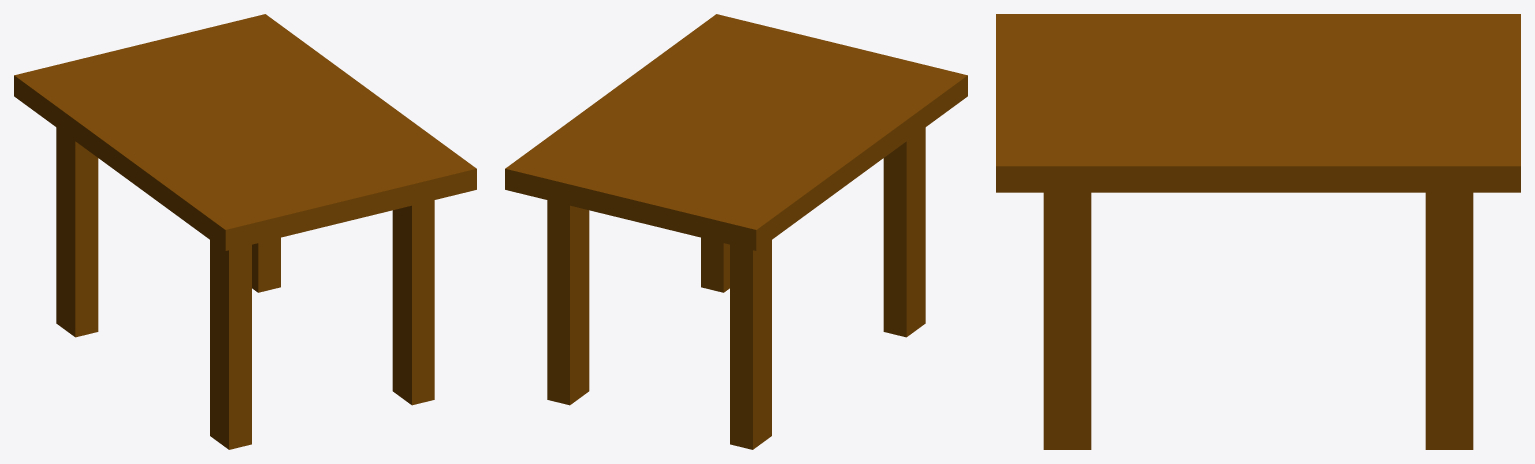
File: ComputerTable.glb
3 renders of one model, left to right at view 1: azimuth 30°, elevation 25°; view 2: azimuth 150°, elevation 25°; view 3: azimuth 270°, elevation 25°, orthographic. The views are drawn at different scales.
Visible parts, largest first — view 1: Cube.124; view 2: Cube.124; view 3: Cube.124.
Boxes of the visible parts, x1,y1,x2,y2 form: Cube.124: (14, 14, 476, 449); Cube.124: (505, 14, 967, 449); Cube.124: (996, 14, 1520, 449).
Bounding box in the file's own units: 3.64 × 3.31 × 5.3.
